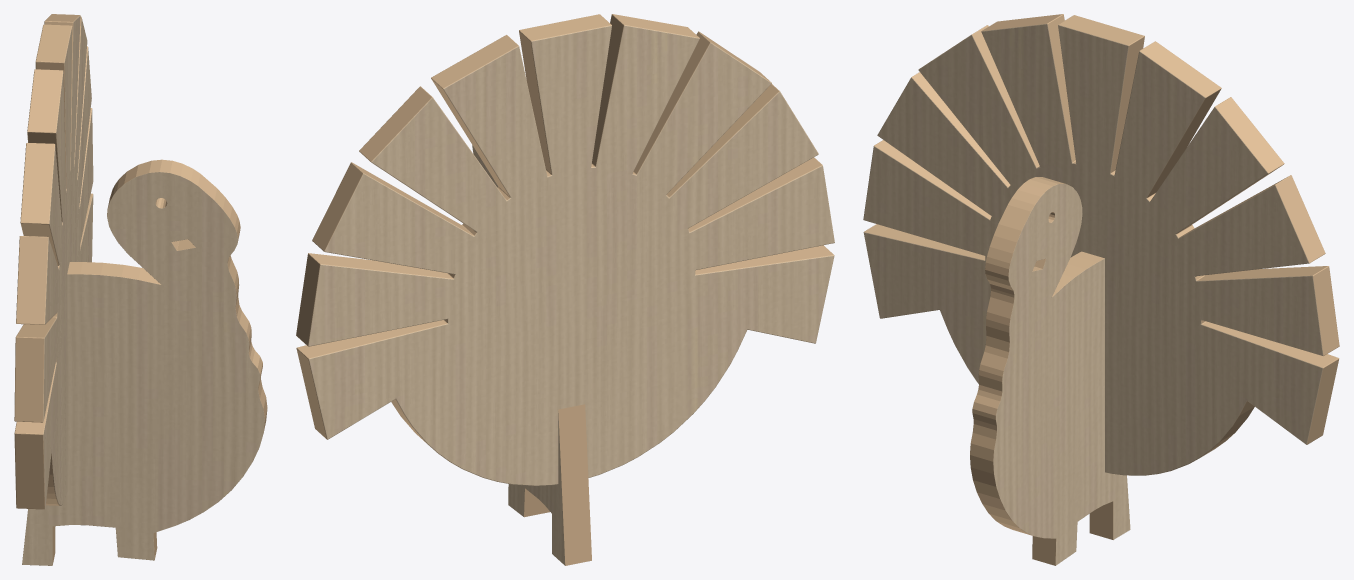
File: turkeys.glb
3 renders of one model, left to right at view 1: azimuth 30°, elevation 25°; view 2: azimuth 150°, elevation 25°; view 3: azimuth 270°, elevation 25°, orthographic. The views are drawn at different scales.
Parts seen in each view (by area): view 1: WoodenTurkey; view 2: WoodenTurkey; view 3: WoodenTurkey.
Part boxes in pixels (x1=…): WoodenTurkey: x1=14, y1=14, x2=267, y2=565; WoodenTurkey: x1=296, y1=14, x2=834, y2=565; WoodenTurkey: x1=863, y1=14, x2=1339, y2=565.
Size of the model in its own units: 0.0779 by 0.1237 by 0.1054.
Materials: 2 (1 with a texture image).
